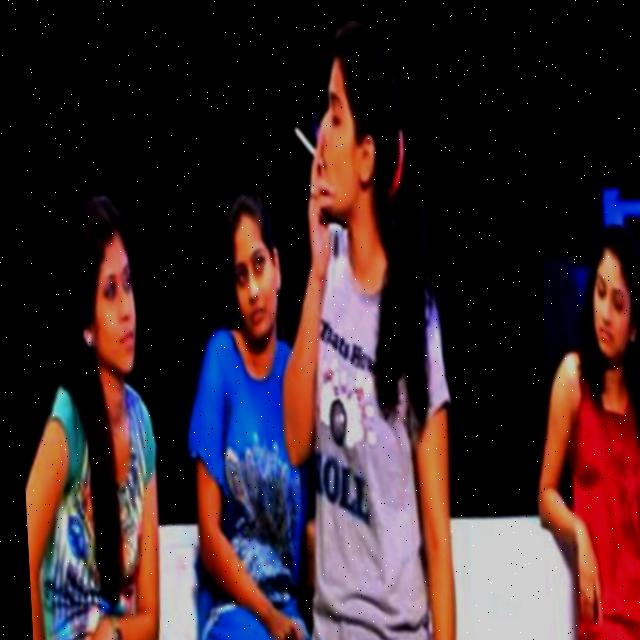cigarette: (290, 118, 324, 168)
